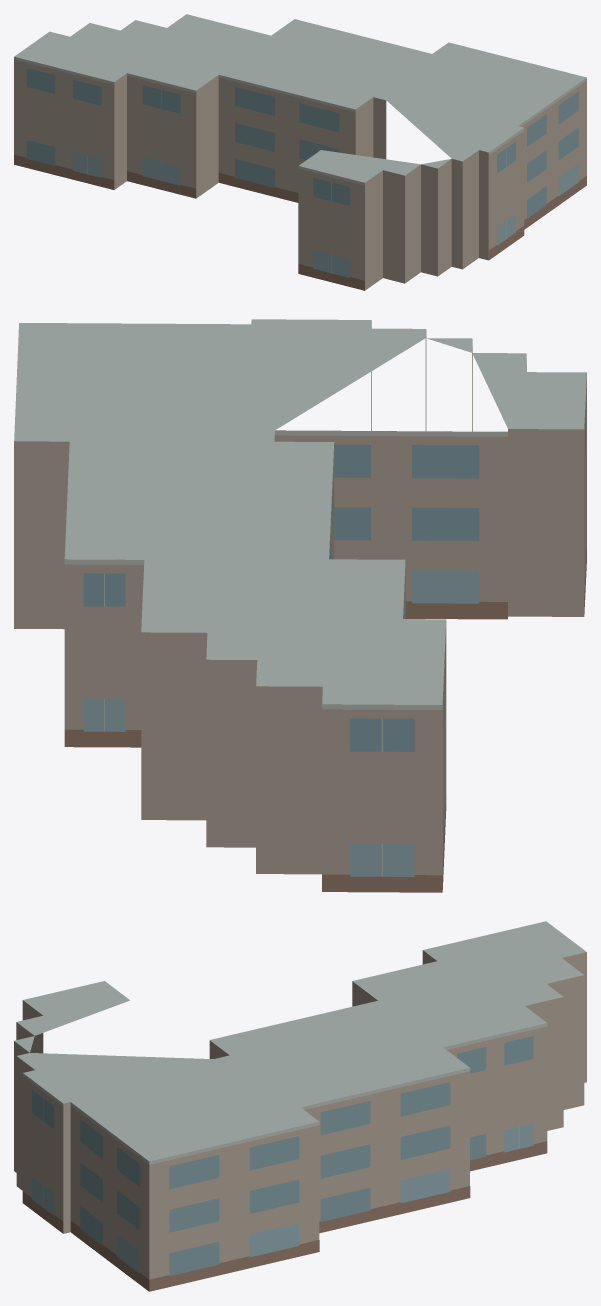
Rendered from survey-upis-32817393.glb.
The picture shows the model from 3 angles, top to bottom: view 1: azimuth 30°, elevation 25°; view 2: azimuth 150°, elevation 25°; view 3: azimuth 270°, elevation 25°; orthographic projection. The views are drawn at different scales.
Visible parts, largest first — view 1: survey-upis-32817393.tmp; view 2: survey-upis-32817393.tmp; view 3: survey-upis-32817393.tmp.
Boxes of the visible parts, box(x1,y1,x2,y2) form: survey-upis-32817393.tmp: box(14, 14, 586, 290); survey-upis-32817393.tmp: box(14, 319, 586, 892); survey-upis-32817393.tmp: box(14, 921, 586, 1291).
Bounding box in the file's own units: 36.22 × 9.15 × 36.48.
